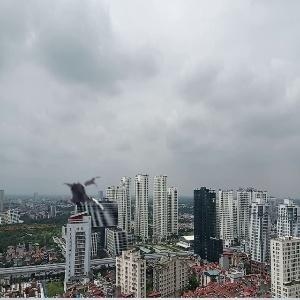drone: (53, 170, 116, 233)
